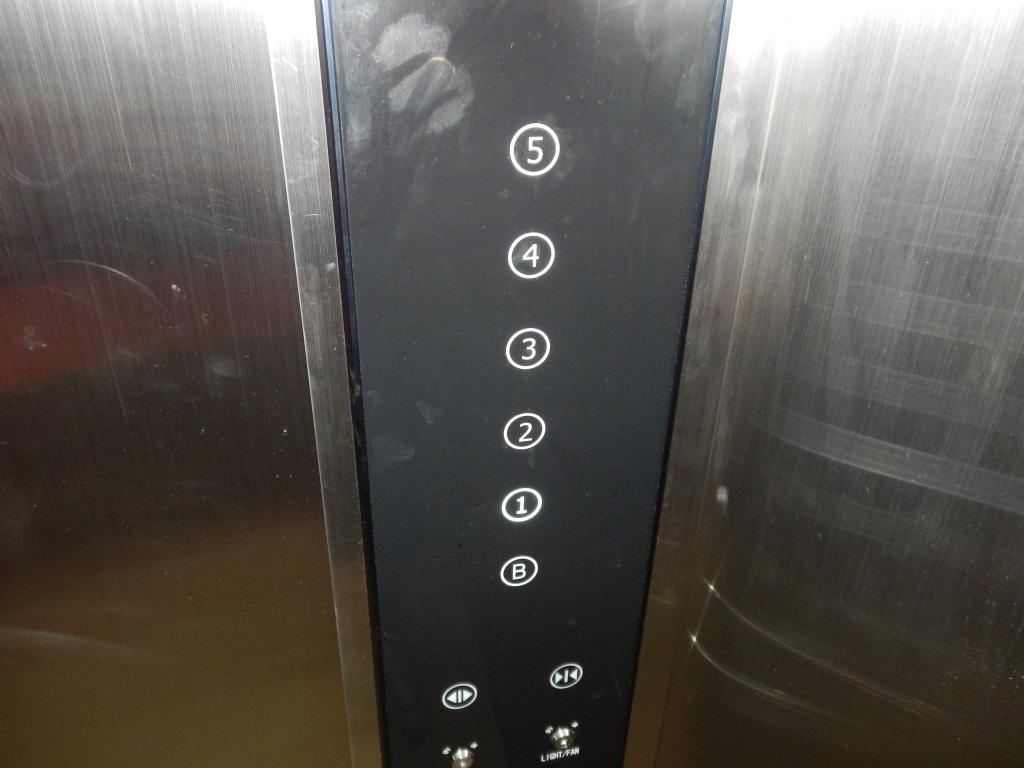1: (498, 481, 545, 526)
2: (501, 409, 548, 454)
3: (501, 323, 555, 373)
4: (504, 227, 559, 282)
5: (506, 119, 564, 179)
B: (497, 552, 541, 589)
close: (543, 657, 587, 694)
keyhole: (540, 719, 584, 756), (439, 740, 483, 768)
open: (438, 677, 482, 714)
